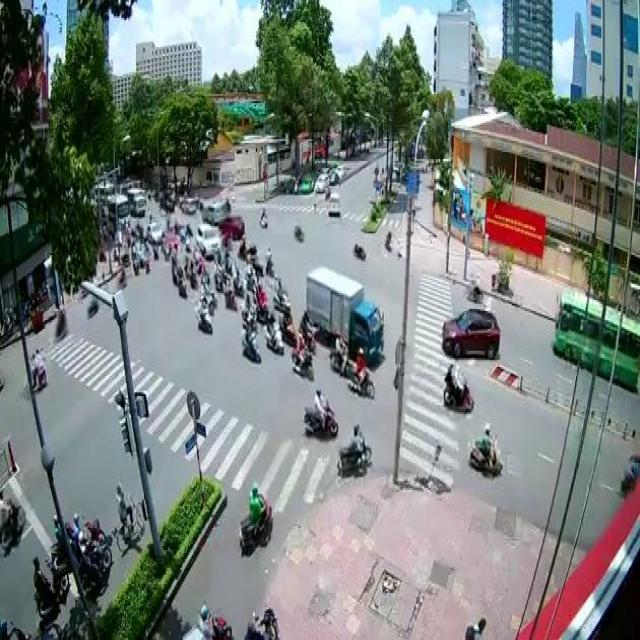bicycle: (114, 481, 143, 555)
bus: (553, 285, 640, 390)
car: (442, 306, 500, 362), (194, 220, 219, 258), (219, 215, 244, 239)
motorcycle: (237, 479, 271, 555), (31, 552, 69, 620), (76, 528, 110, 598), (334, 423, 370, 481), (465, 423, 500, 477), (441, 363, 474, 414), (304, 387, 336, 437), (0, 488, 25, 551), (345, 345, 373, 396), (289, 331, 314, 380), (22, 347, 48, 394), (328, 329, 352, 378), (264, 308, 285, 357), (239, 320, 261, 365), (271, 273, 291, 315), (462, 267, 484, 302), (197, 296, 212, 336)
truck: (305, 264, 385, 369)
